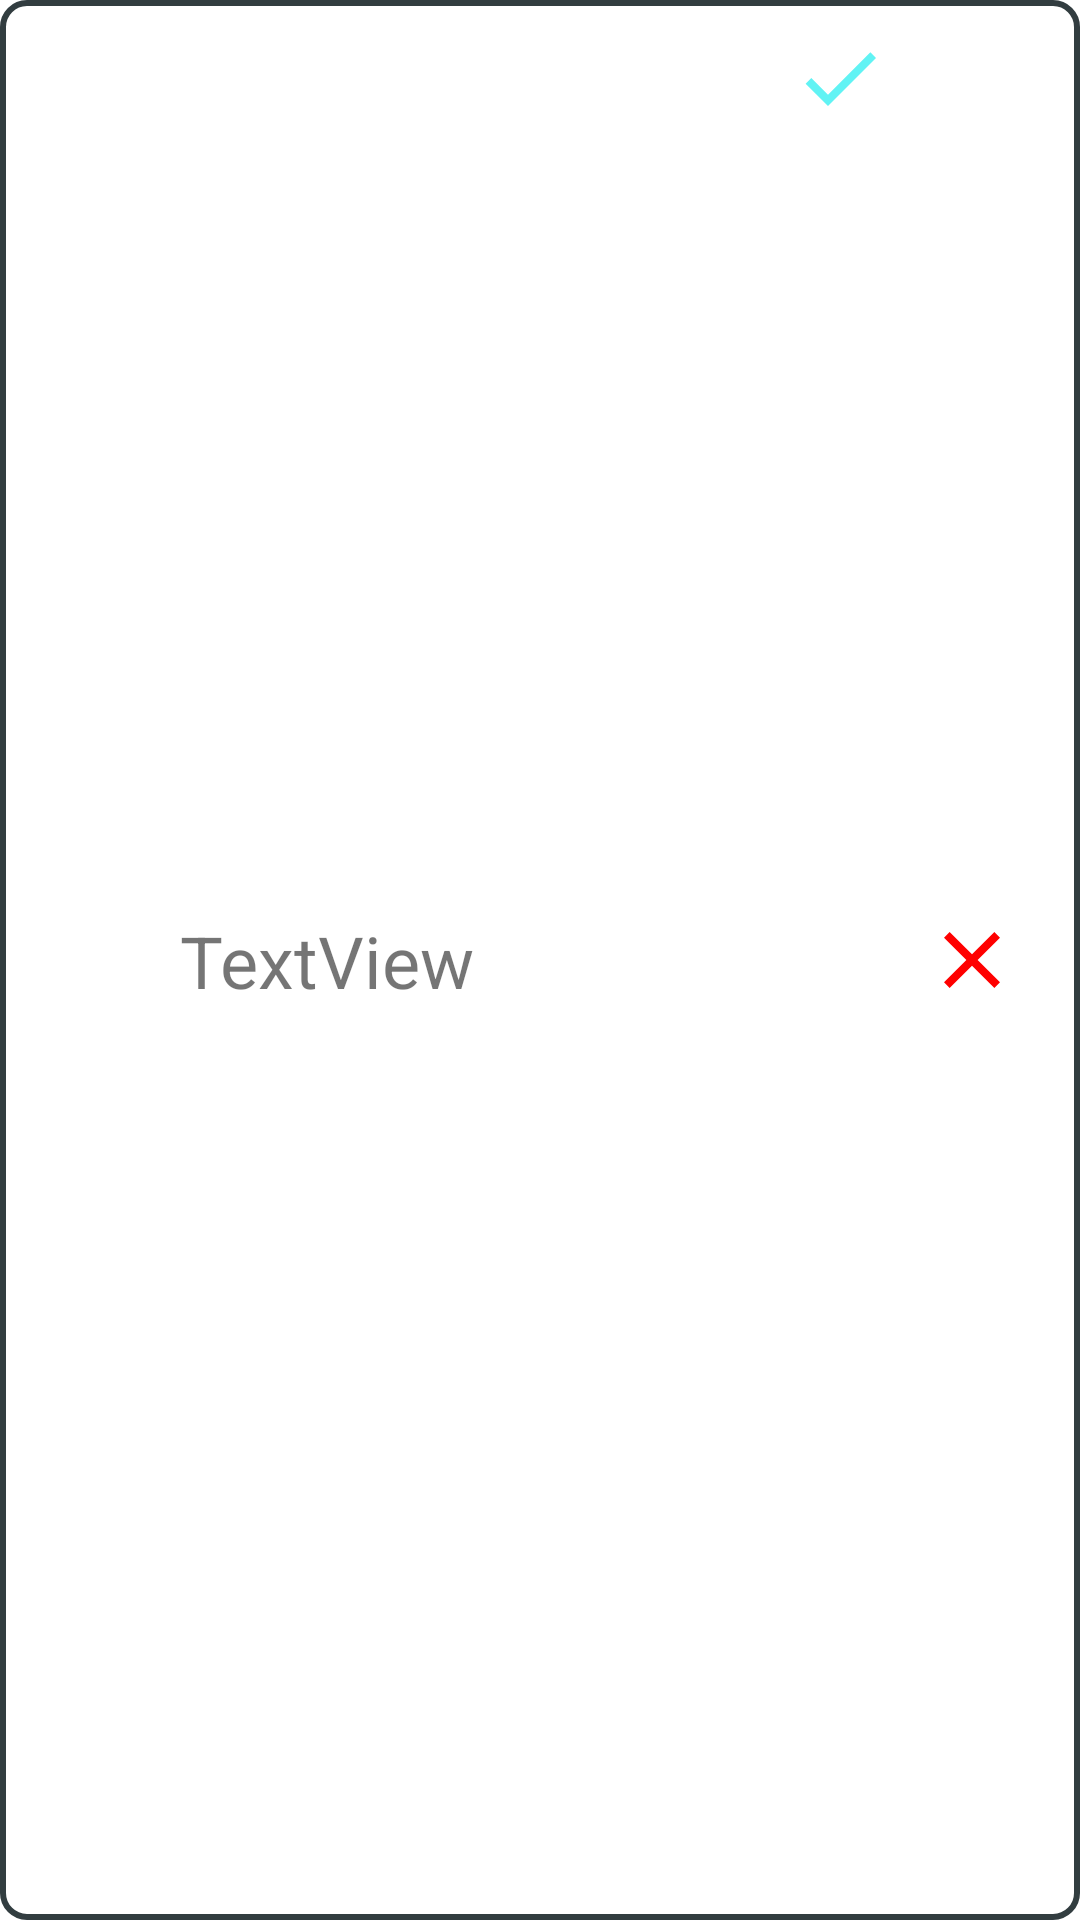

Screen size 1080w x 1920h. Icon name, then its center in pixels as [x,y]:
check: [841,79]
deny: [972,960]
